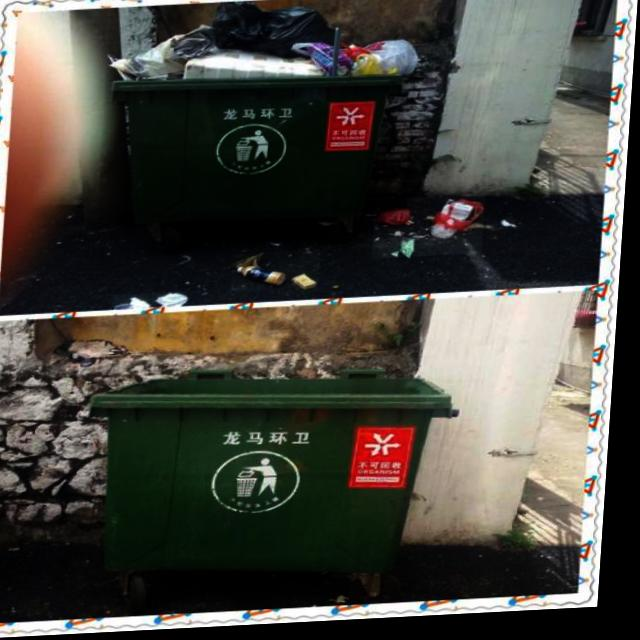garbage: (376, 200, 488, 263), (235, 253, 324, 295), (117, 294, 191, 308)
garbage_bin: (84, 361, 464, 590)
overflow: (100, 0, 422, 227)
